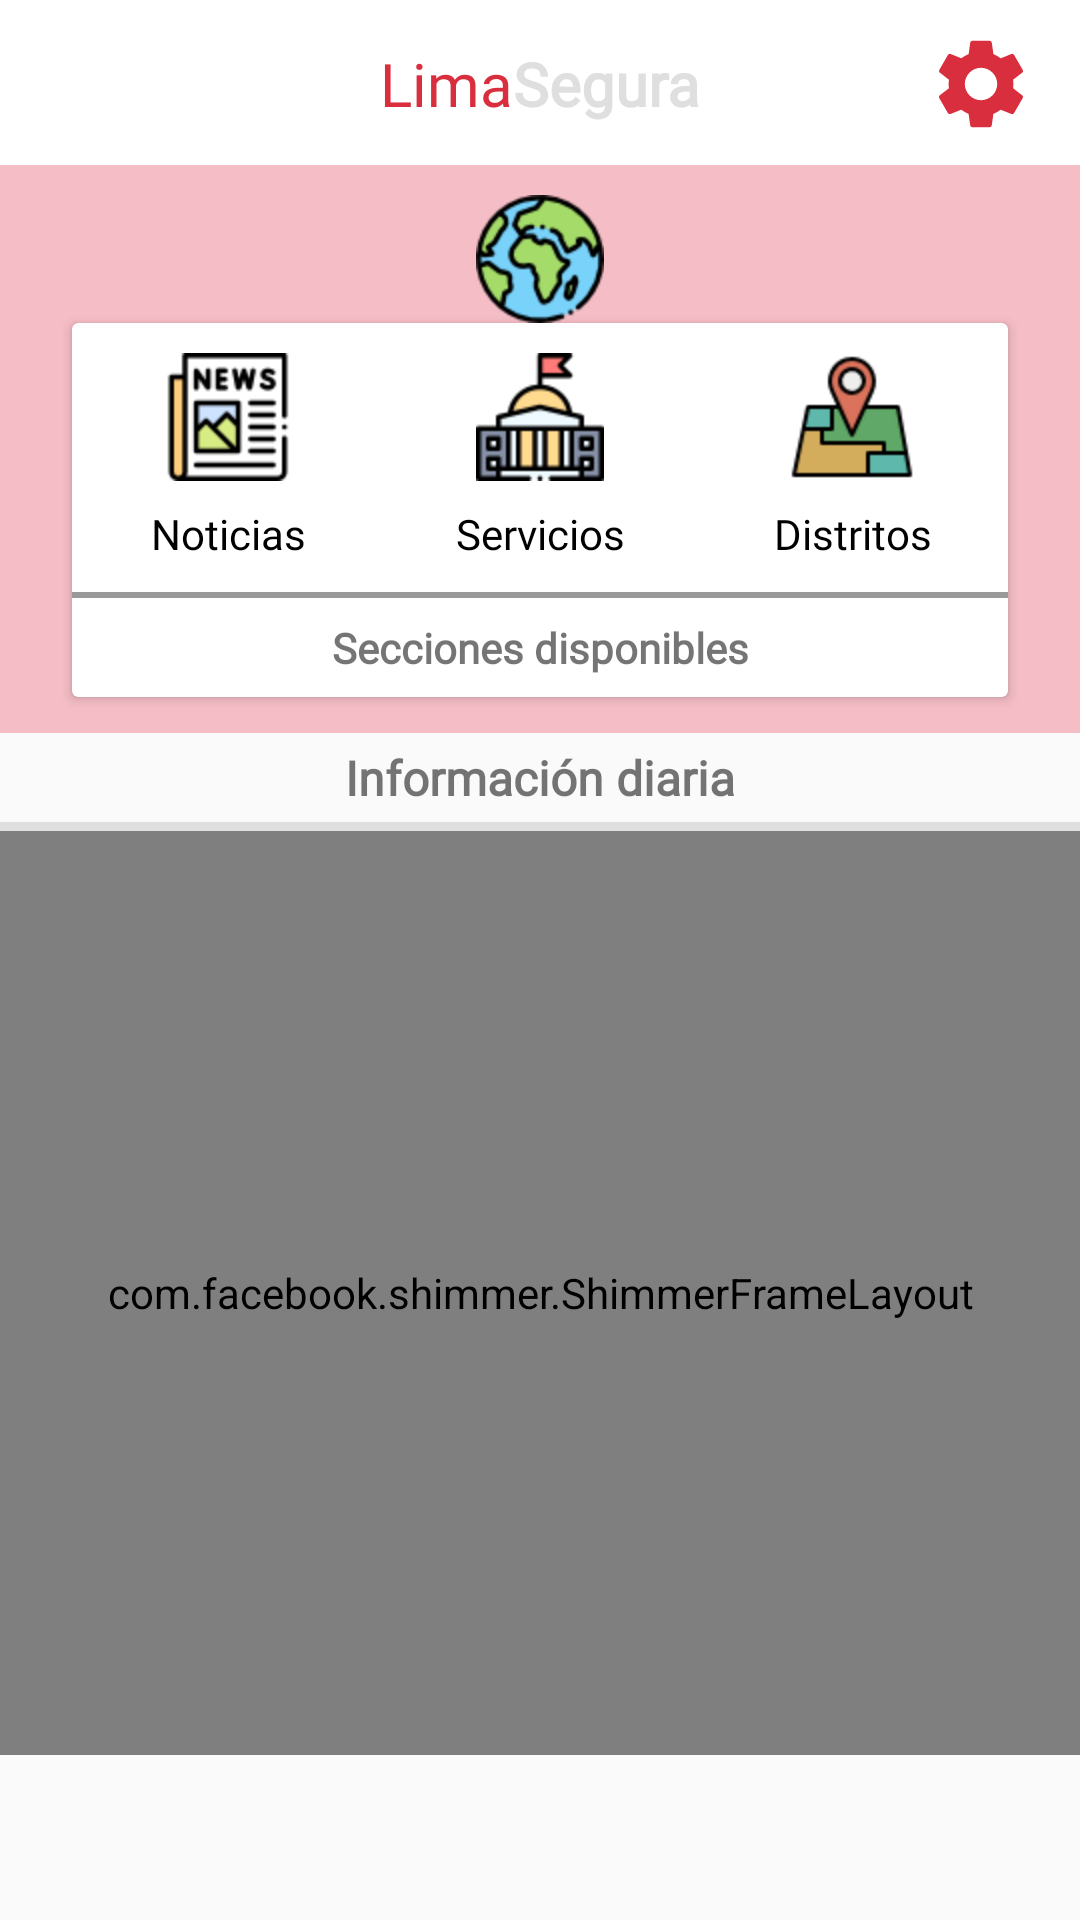

Screen size 1080 x 1920. Icon name, then its box in pixels as [left=x1, top=y1, right=x2, bottom=y2]:
global home: [left=476, top=195, right=604, bottom=323]
settings: [left=939, top=40, right=1023, bottom=128]
